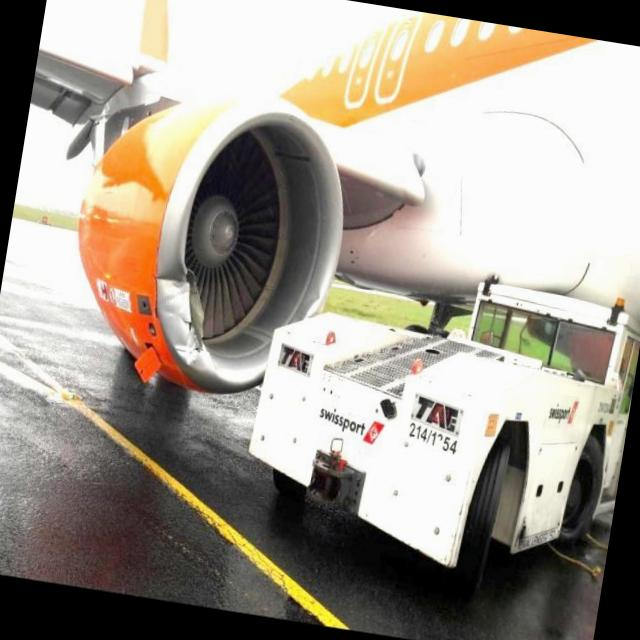crack: (175, 270, 215, 353)
dent: (150, 265, 194, 327), (300, 290, 328, 320)
